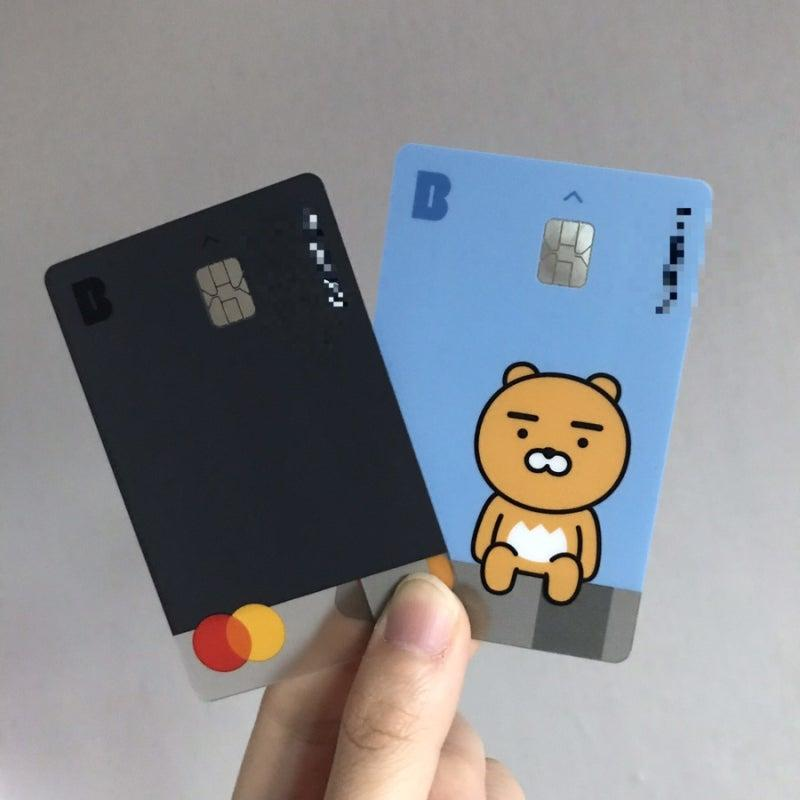Credit_card: (45, 173, 450, 699), (374, 145, 710, 662)
